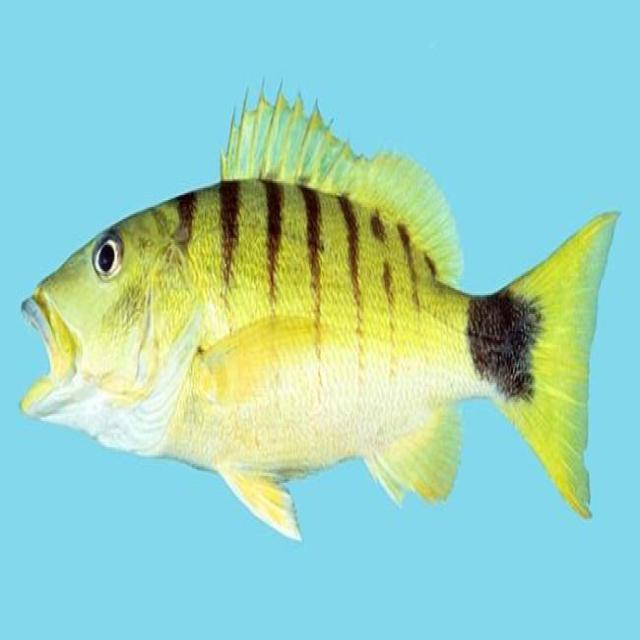ikan: (18, 76, 621, 543)
